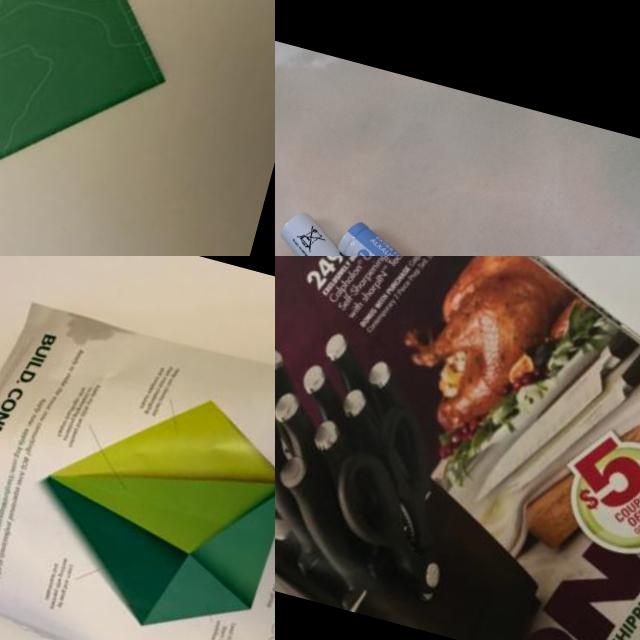bateria: (275, 205, 424, 256), (317, 216, 500, 256)
papel: (275, 256, 640, 640), (0, 286, 275, 640), (0, 0, 200, 256)
